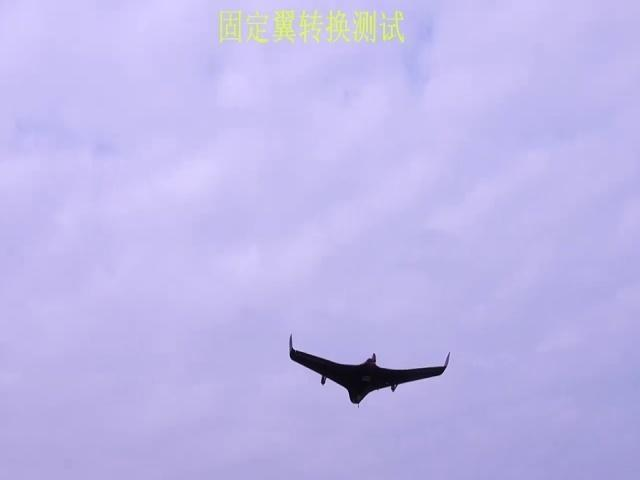Airplane: (289, 333, 450, 407)
